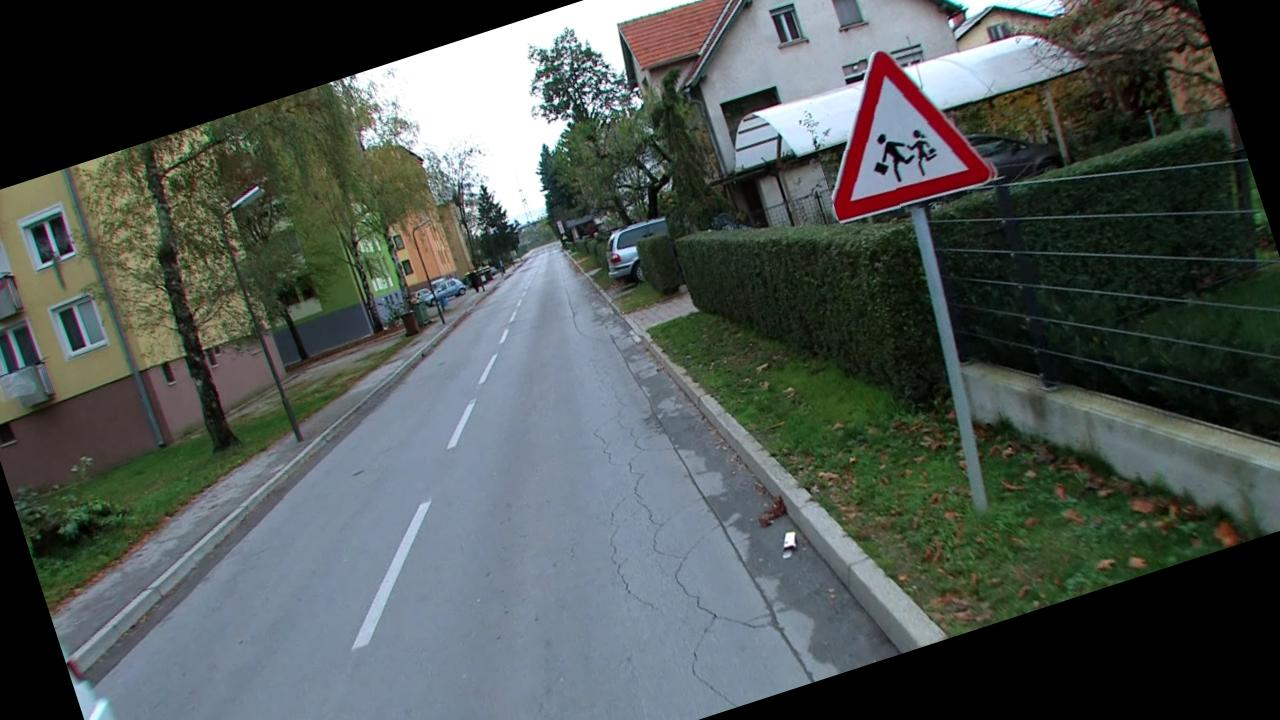Triangle: (792, 27, 1001, 234)
